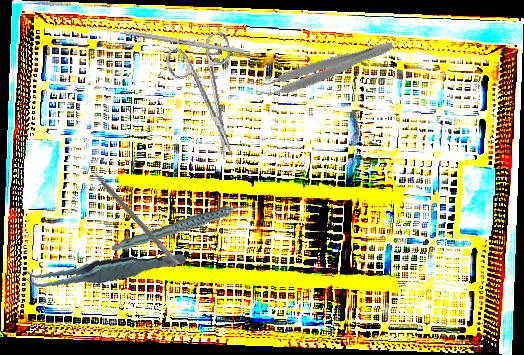Handpiece: (108, 203, 259, 253)
Iris Scissors: (162, 30, 258, 167)
Pusher: (90, 24, 245, 55)
Spatula Surgical: (83, 159, 185, 267)
Tissue Forceps: (252, 31, 396, 104), (22, 240, 187, 300)
